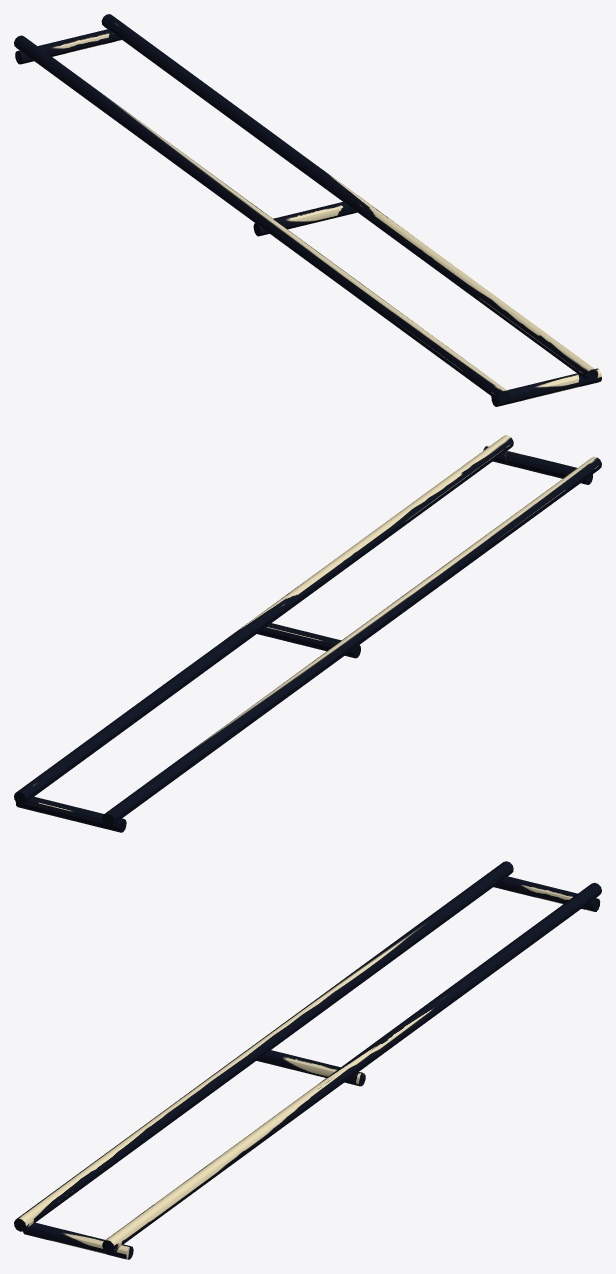
Rendered from Camtracks.fbx.
3 views of the same model, one above another, from view 1: azimuth 30°, elevation 25°; view 2: azimuth 150°, elevation 25°; view 3: azimuth 330°, elevation 25° (orthographic).
Parts seen in each view (by area): view 1: Cylinder.008; view 2: Cylinder.008; view 3: Cylinder.008.
Boxes of the visible parts, left/top/right/bottom form: Cylinder.008: left=14, top=14, right=601, bottom=406; Cylinder.008: left=14, top=435, right=601, bottom=832; Cylinder.008: left=14, top=861, right=601, bottom=1259.
Size of the model in its own units: 188 by 35.66 by 1441.
1 material, 1 textured.
